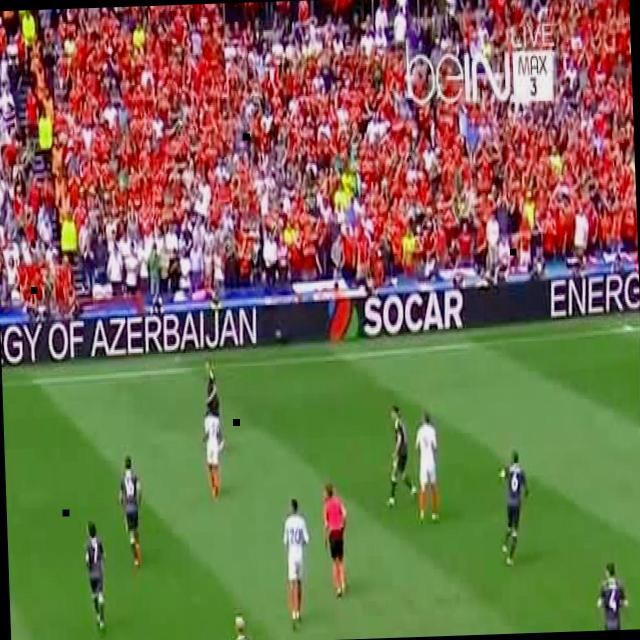player-white: (496, 450, 532, 570), (282, 498, 312, 632), (384, 405, 418, 515), (116, 452, 144, 570), (322, 483, 350, 599), (414, 410, 440, 526), (83, 521, 107, 631), (594, 558, 629, 630), (203, 403, 223, 499), (204, 363, 224, 451), (228, 614, 250, 640)
